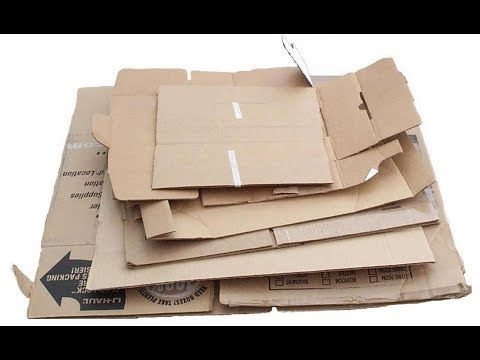paper: (81, 151, 460, 292), (29, 57, 216, 322), (148, 56, 441, 186), (85, 49, 205, 212)
